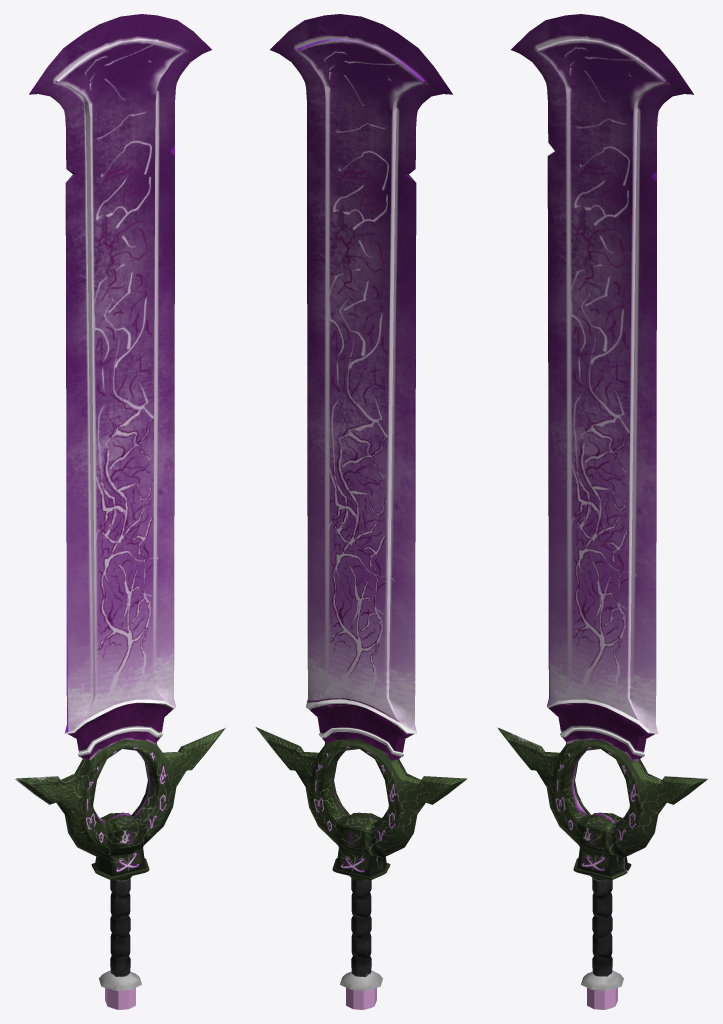
File: Sword.fbx
3 renders of one model, left to right at view 1: azimuth 30°, elevation 25°; view 2: azimuth 150°, elevation 25°; view 3: azimuth 330°, elevation 25°, orthographic.
Visible parts, largest first — view 1: untitled; view 2: untitled; view 3: untitled.
Part boxes in pixels (x1,y1,x2,y2): untitled: (14, 14, 226, 1009); untitled: (255, 14, 467, 1009); untitled: (496, 14, 708, 1009).
Size of the model in its own units: 268 by 1195 by 48.84.
Materials: 2 (2 with a texture image).
